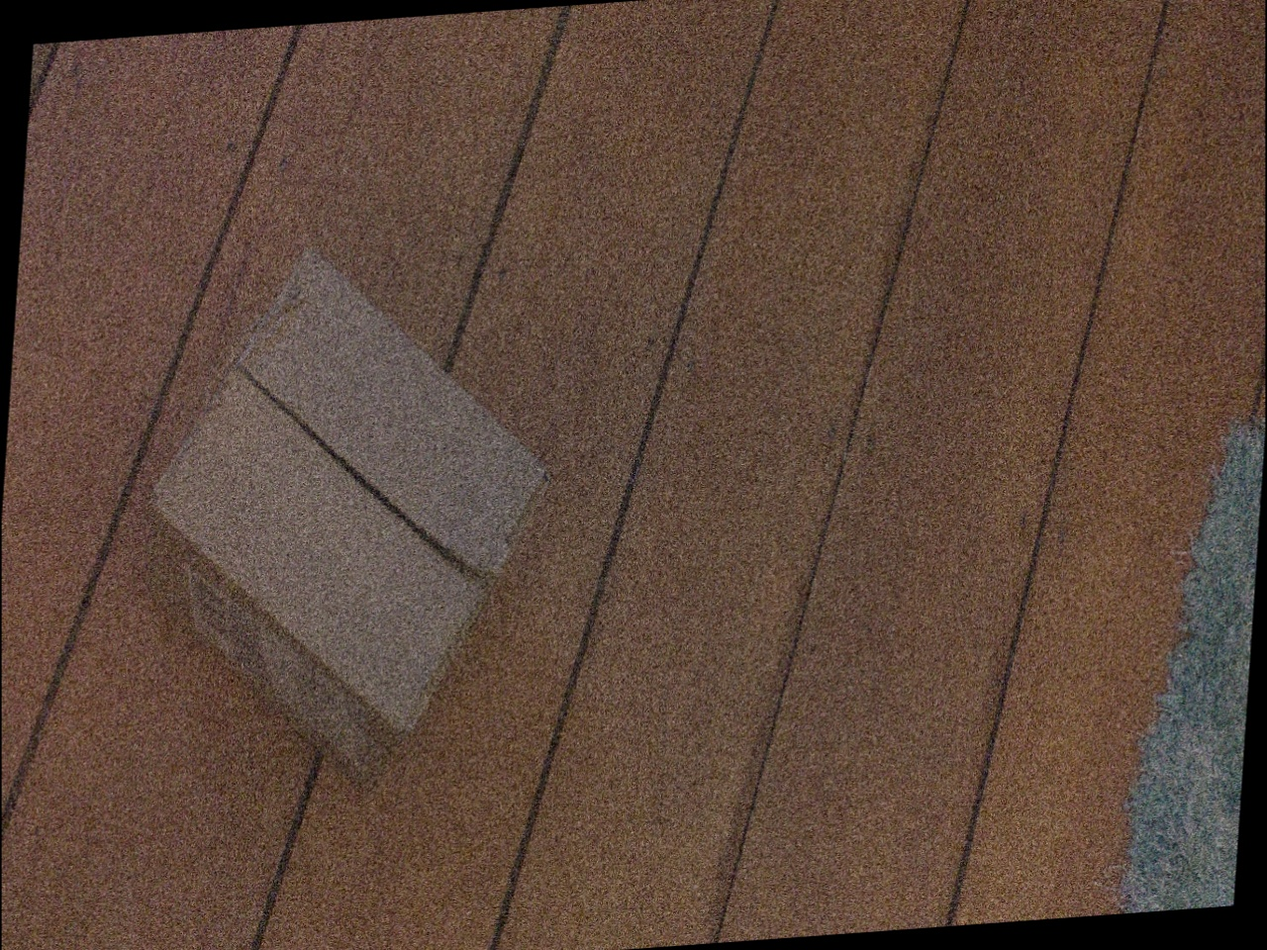good-parcel: (124, 225, 569, 792)
